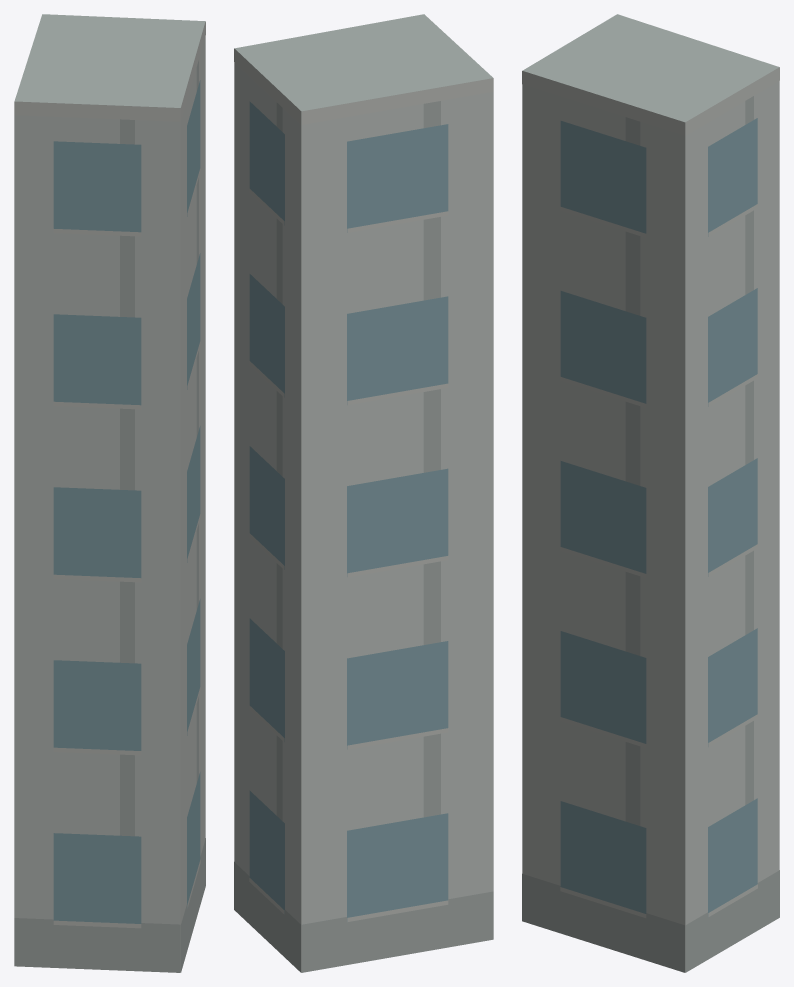
Rendered from survey-upis-32592486.glb.
The picture shows the model from 3 angles, left to right: view 1: azimuth 30°, elevation 25°; view 2: azimuth 150°, elevation 25°; view 3: azimuth 270°, elevation 25°; orthographic projection.
Parts seen in each view (by area): view 1: survey-upis-32592486.tmp; view 2: survey-upis-32592486.tmp; view 3: survey-upis-32592486.tmp.
Part boxes in pixels (x1,y1,x2,y2): survey-upis-32592486.tmp: [14, 14, 205, 972]; survey-upis-32592486.tmp: [234, 14, 493, 972]; survey-upis-32592486.tmp: [522, 14, 779, 972].
Size of the model in its own units: 4.17 by 15.25 by 4.19.
